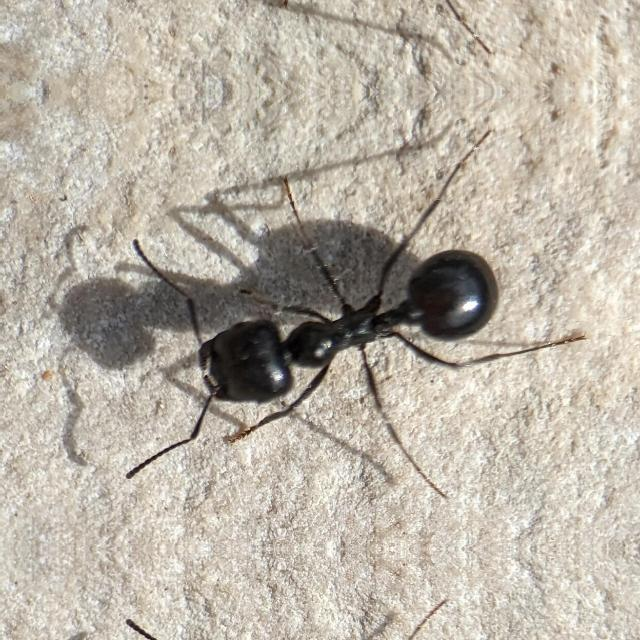Messor: (119, 158, 529, 450)
